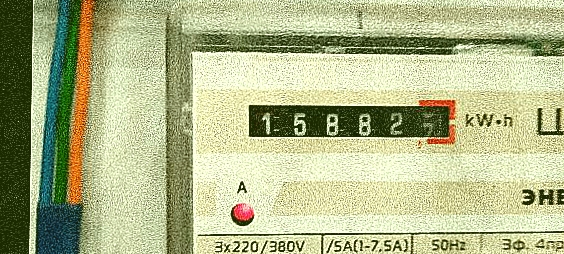1: (260, 106, 274, 136)
2: (387, 109, 405, 136)
5: (291, 109, 308, 139)
7: (420, 119, 433, 136)
8: (356, 109, 373, 137), (323, 109, 339, 138)
screen: (236, 87, 463, 151)
